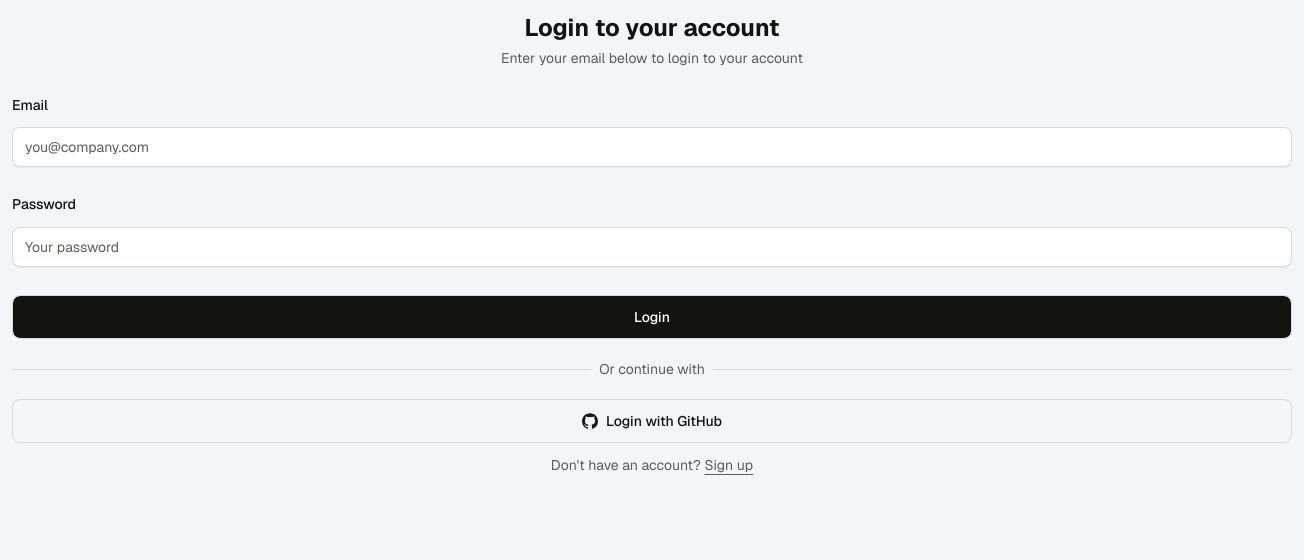
it: LoginForm › shows the api rejection and stays on the page
Type "qa@acme.test" into the field labelled "Email" at coordinates (652, 147), box left=12, top=127, right=1292, bottom=167
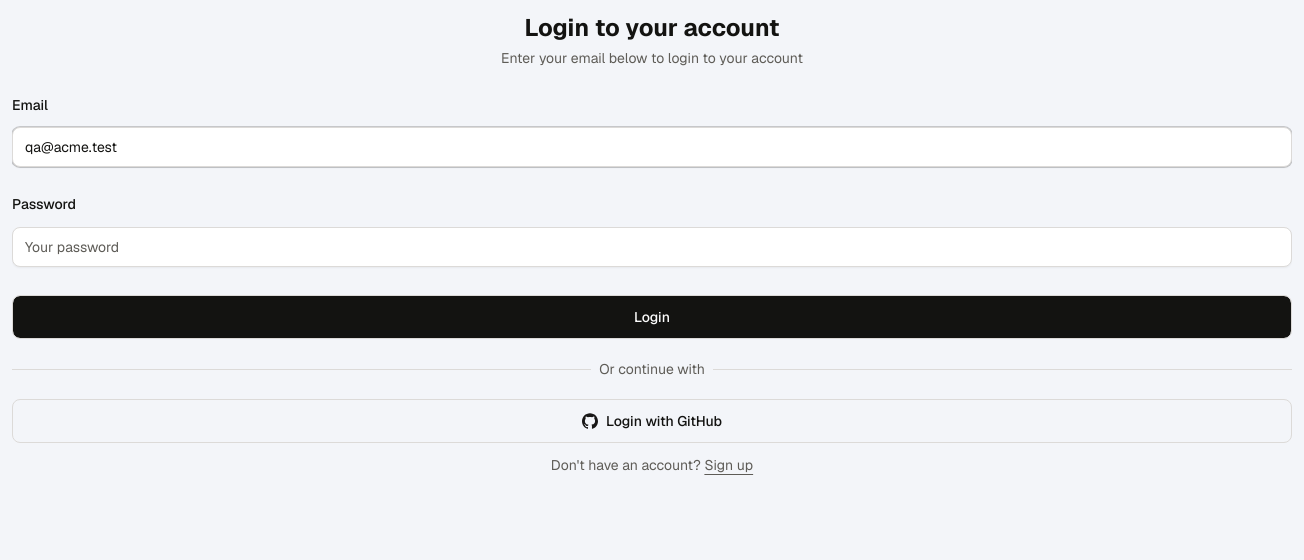
Type "longenoughpassword" into the password field labelled "Password" at coordinates (652, 246), box left=12, top=226, right=1292, bottom=266
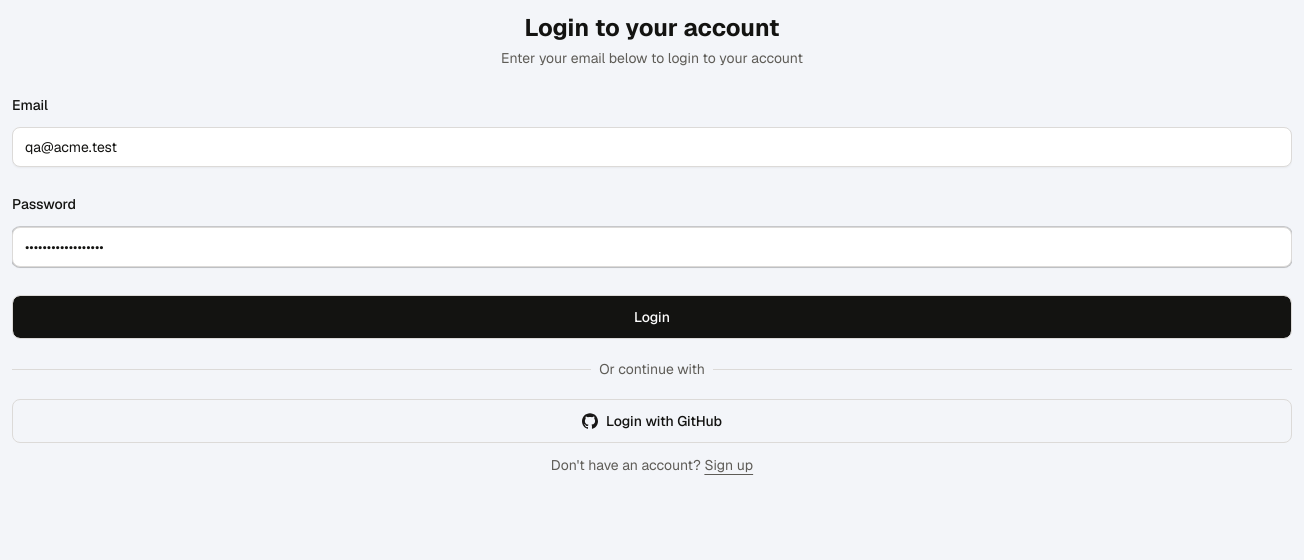
Click the button "Login" at coordinates (652, 316), box left=12, top=294, right=1292, bottom=338
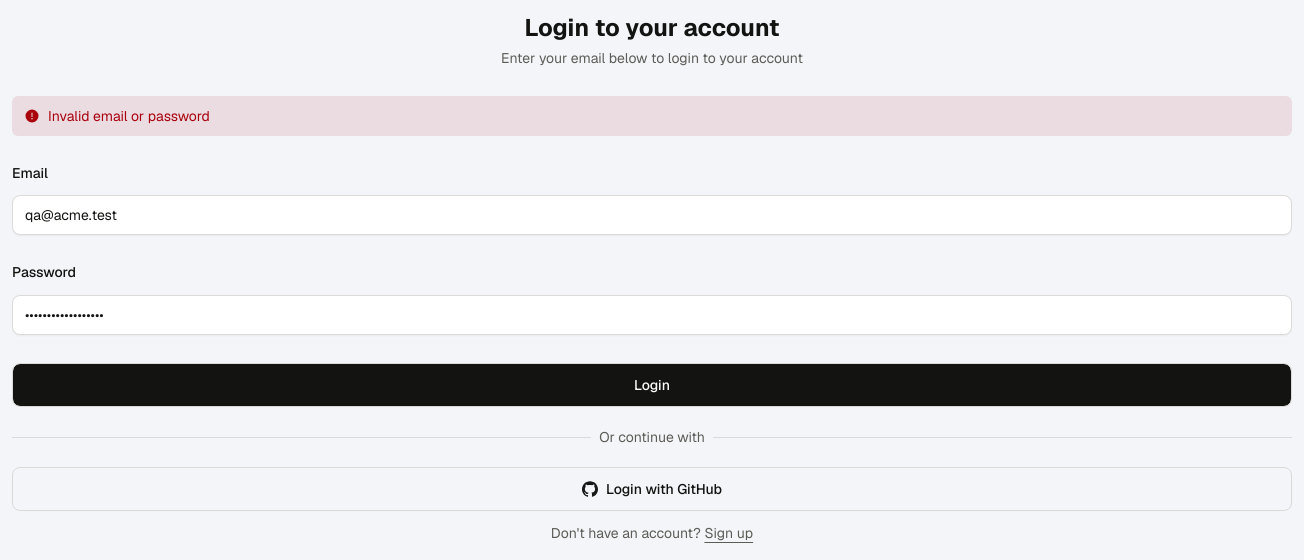
Expected: the message reads "Invalid email or password", left=48, top=107, right=210, bottom=125
